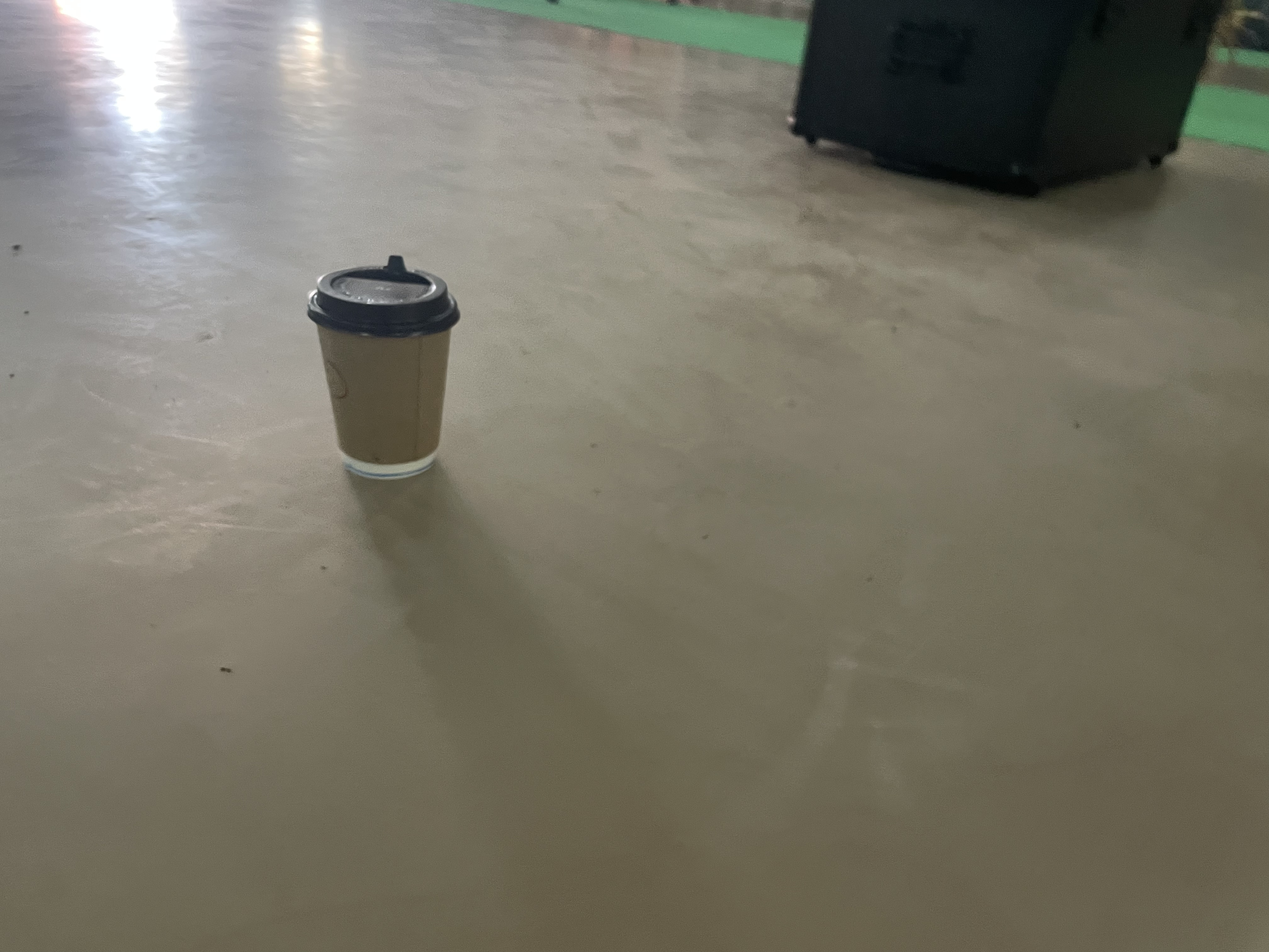cup: (305, 256, 464, 483)
